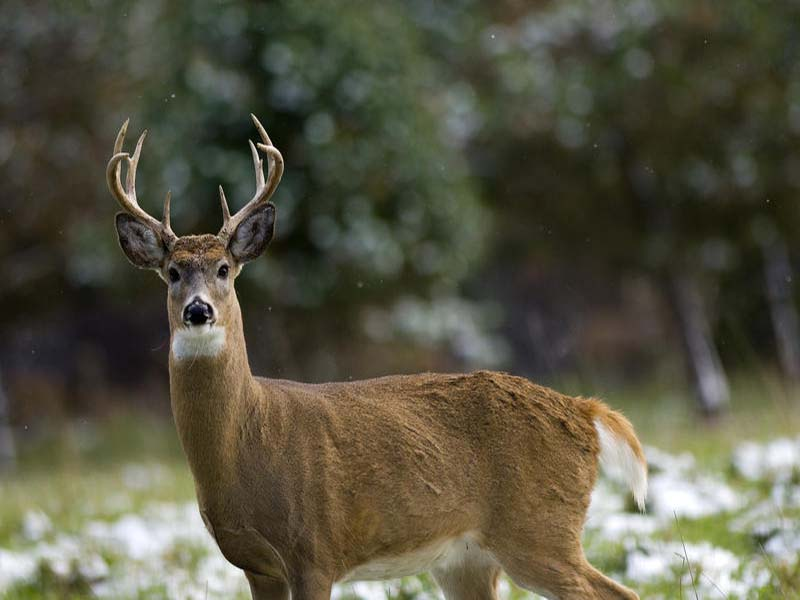cervo: (103, 105, 646, 600)
